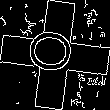O_E: (27, 30, 83, 80)
